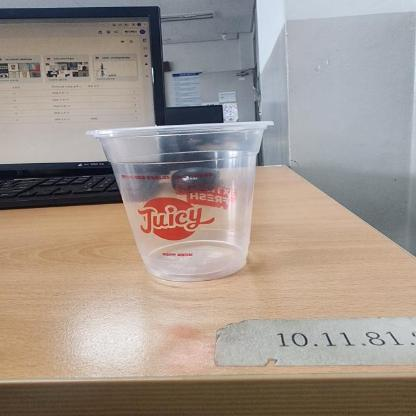Plastic Cup: (89, 120, 274, 282)
